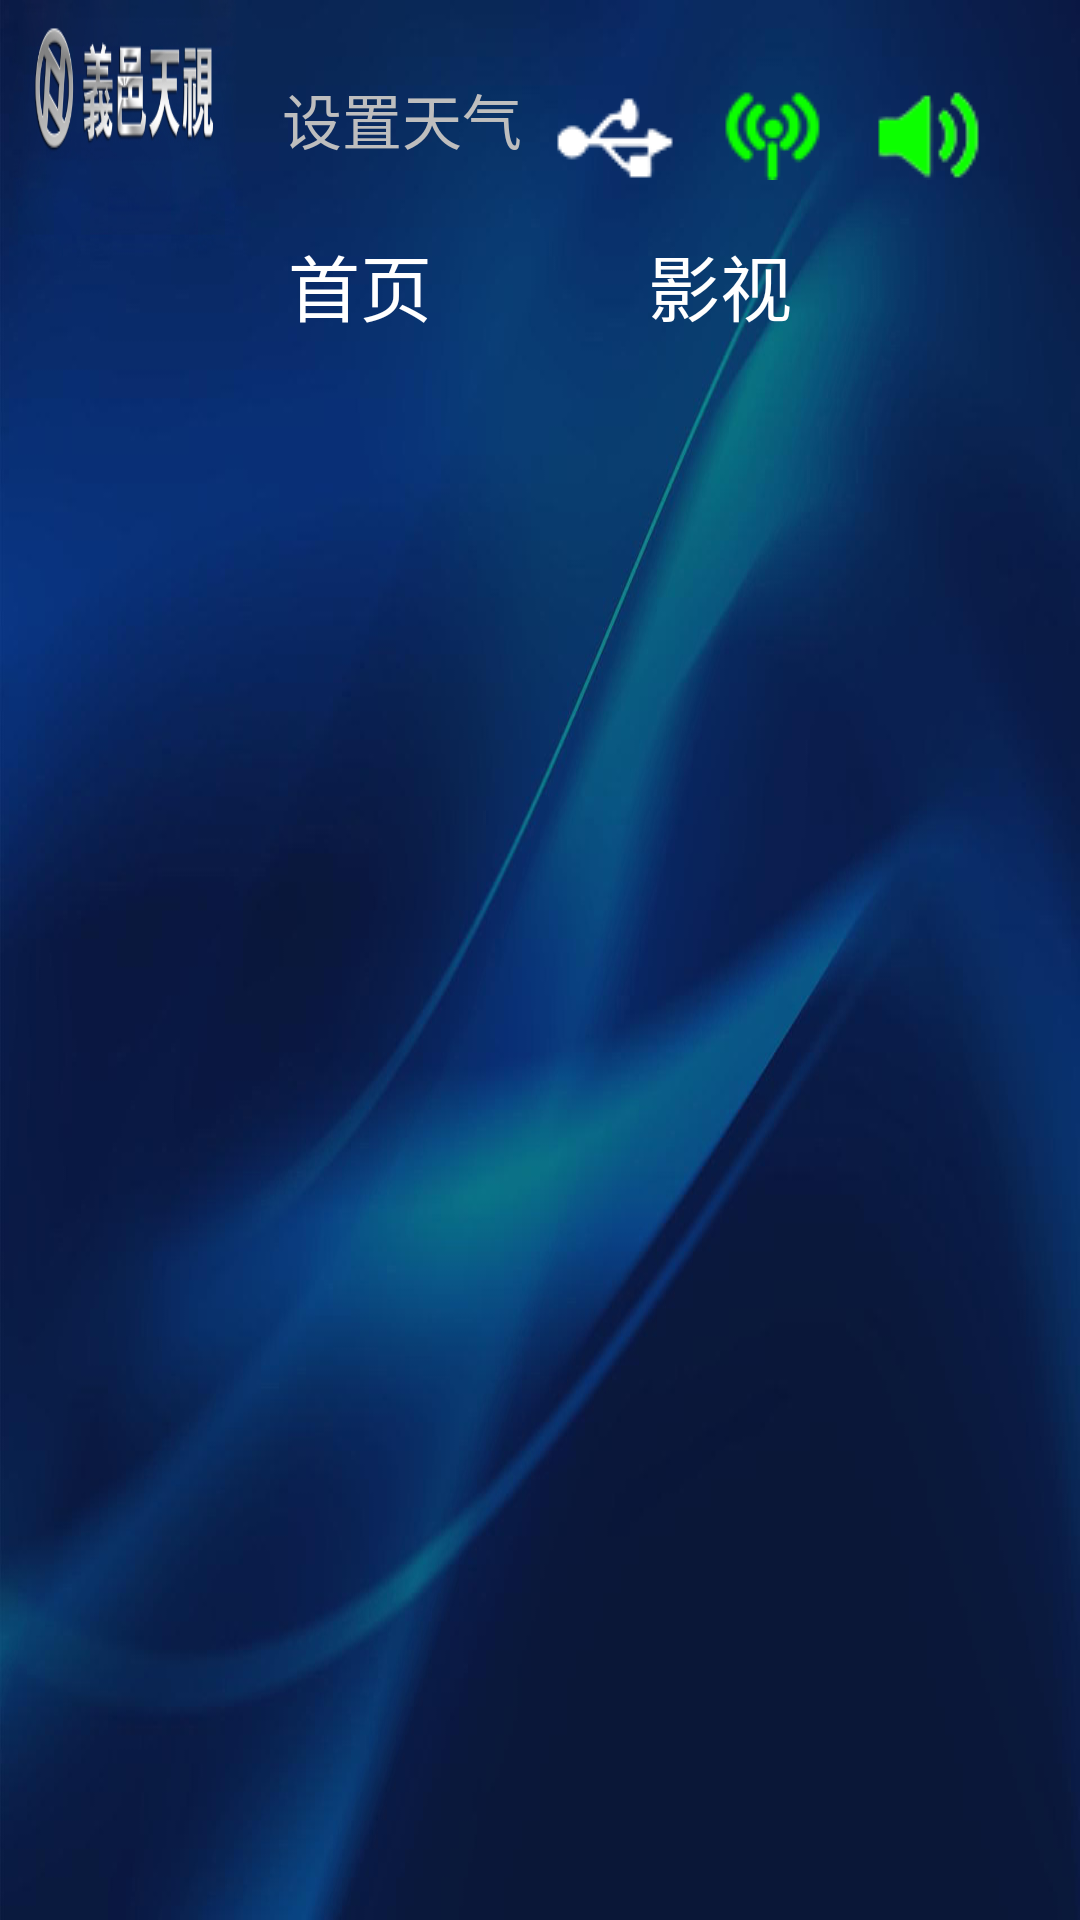

Named icons in this screenshot (1080px×1920px) and their centers, point (x, y):
声音状态图标: point (928, 135)
网络状态图标: point (772, 136)
